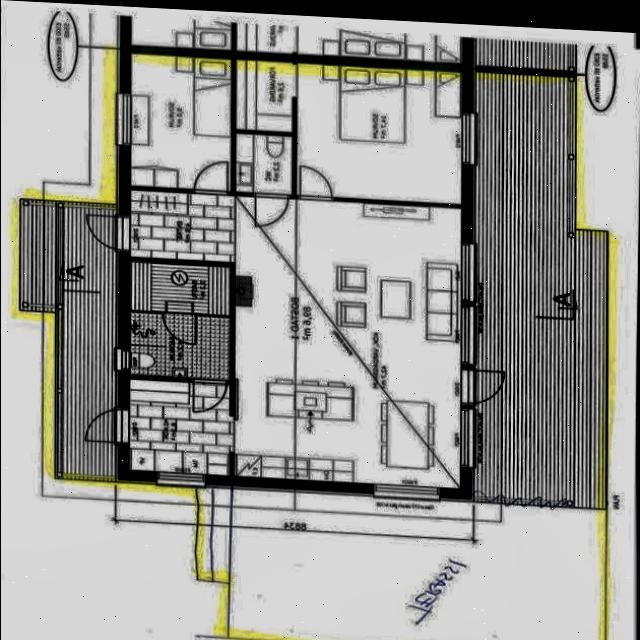room: (130, 54, 229, 191), (124, 379, 233, 476), (125, 312, 233, 380), (127, 261, 231, 316), (234, 134, 291, 194)
